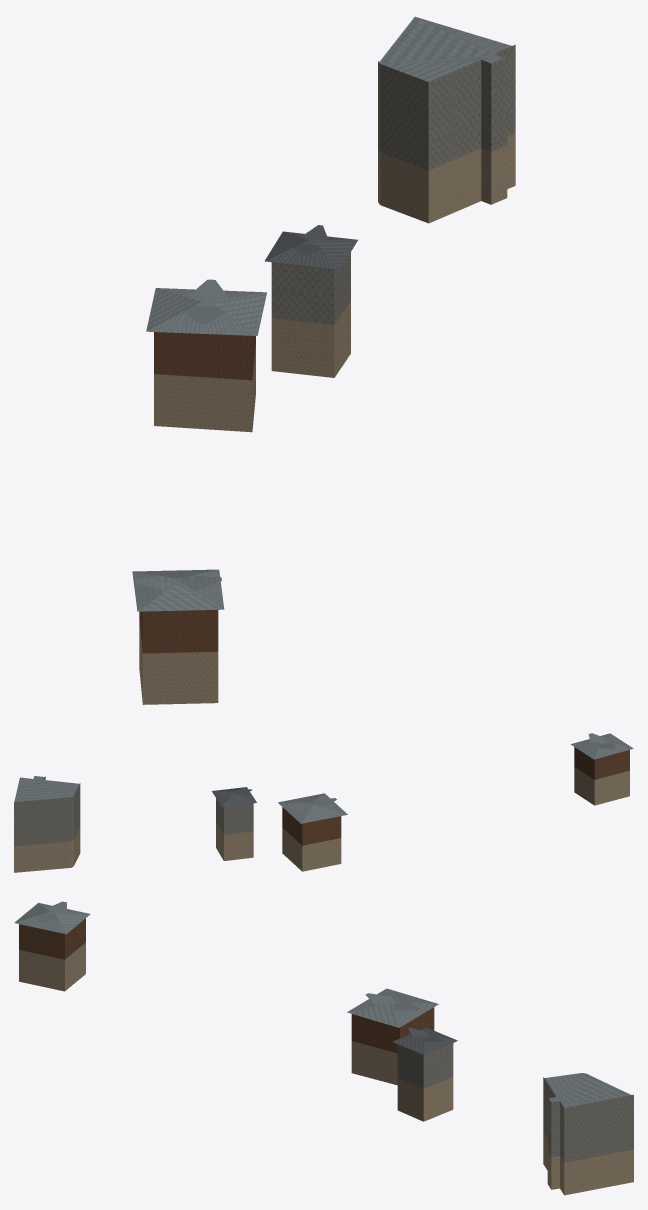
The model's file is bld_c21_44_385.gltf.
3 views of the same model, one above another, from view 1: azimuth 30°, elevation 25°; view 2: azimuth 150°, elevation 25°; view 3: azimuth 270°, elevation 25° (orthographic). The views are drawn at different scales.
Visible parts, largest first — view 1: bld_c21_44_385; view 2: bld_c21_44_385; view 3: bld_c21_44_385.
Boxes of the visible parts, box(x1,y1,x2,y2) form: bld_c21_44_385: box(132, 16, 515, 704); bld_c21_44_385: box(14, 733, 633, 872); bld_c21_44_385: box(14, 901, 633, 1195).
Bounding box in the file's own units: 80.77 × 15.18 × 87.27.
6 materials, 6 textured.
